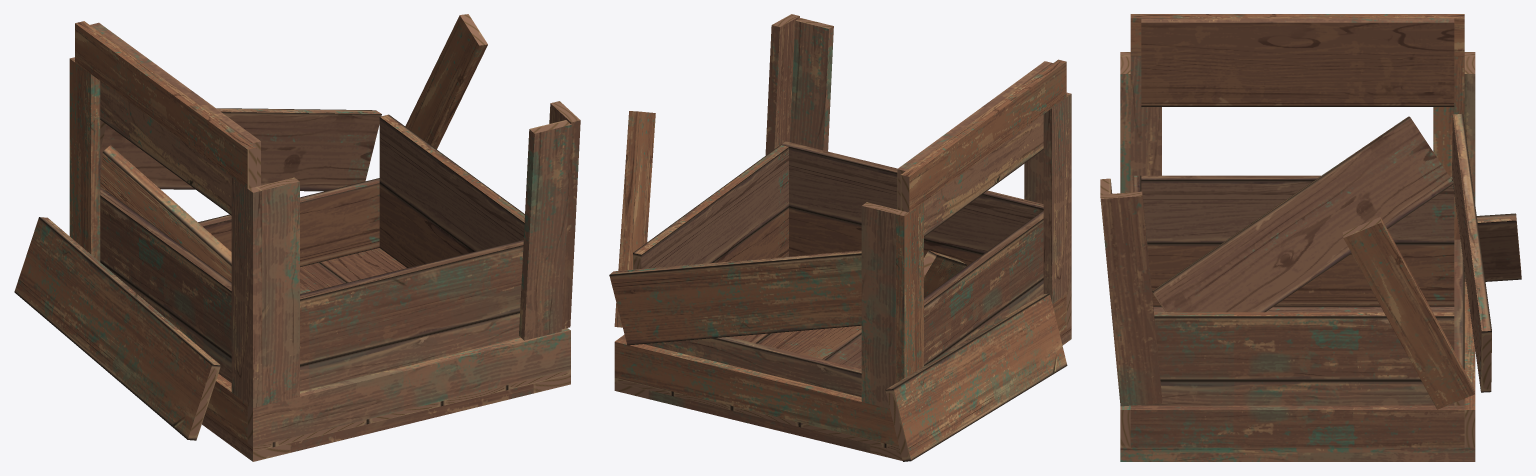
Rendered from crate02_C.fbx.
3 views of the same model, side by side, from view 1: azimuth 30°, elevation 25°; view 2: azimuth 150°, elevation 25°; view 3: azimuth 270°, elevation 25° (orthographic). The views are drawn at different scales.
Visible parts, largest first — view 1: crate02_C; view 2: crate02_C; view 3: crate02_C.
Boxes of the visible parts, x1=… form: crate02_C: x1=14, y1=14, x2=580, y2=461; crate02_C: x1=609, y1=14, x2=1071, y2=461; crate02_C: x1=1100, y1=14, x2=1521, y2=461.
Bounding box in the file's own units: 81.68 × 63 × 80.72.
